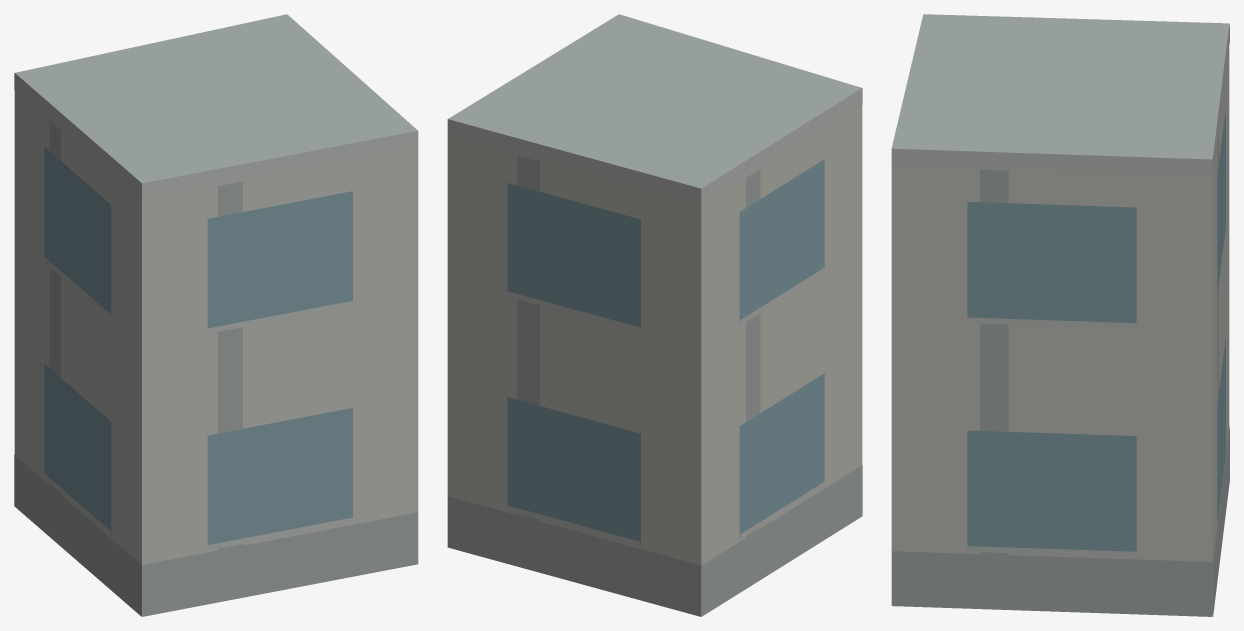
Rendered from survey-upis-32748453.glb.
3 renders of one model, left to right at view 1: azimuth 30°, elevation 25°; view 2: azimuth 150°, elevation 25°; view 3: azimuth 270°, elevation 25°, orthographic. The views are drawn at different scales.
Visible parts, largest first — view 1: survey-upis-32748453.tmp; view 2: survey-upis-32748453.tmp; view 3: survey-upis-32748453.tmp.
Boxes of the visible parts, x1,y1,x2,y2 form: survey-upis-32748453.tmp: (14, 14, 418, 616); survey-upis-32748453.tmp: (447, 14, 862, 616); survey-upis-32748453.tmp: (891, 14, 1229, 616).
Size of the model in its own units: 4.17 by 6.1 by 4.1.
